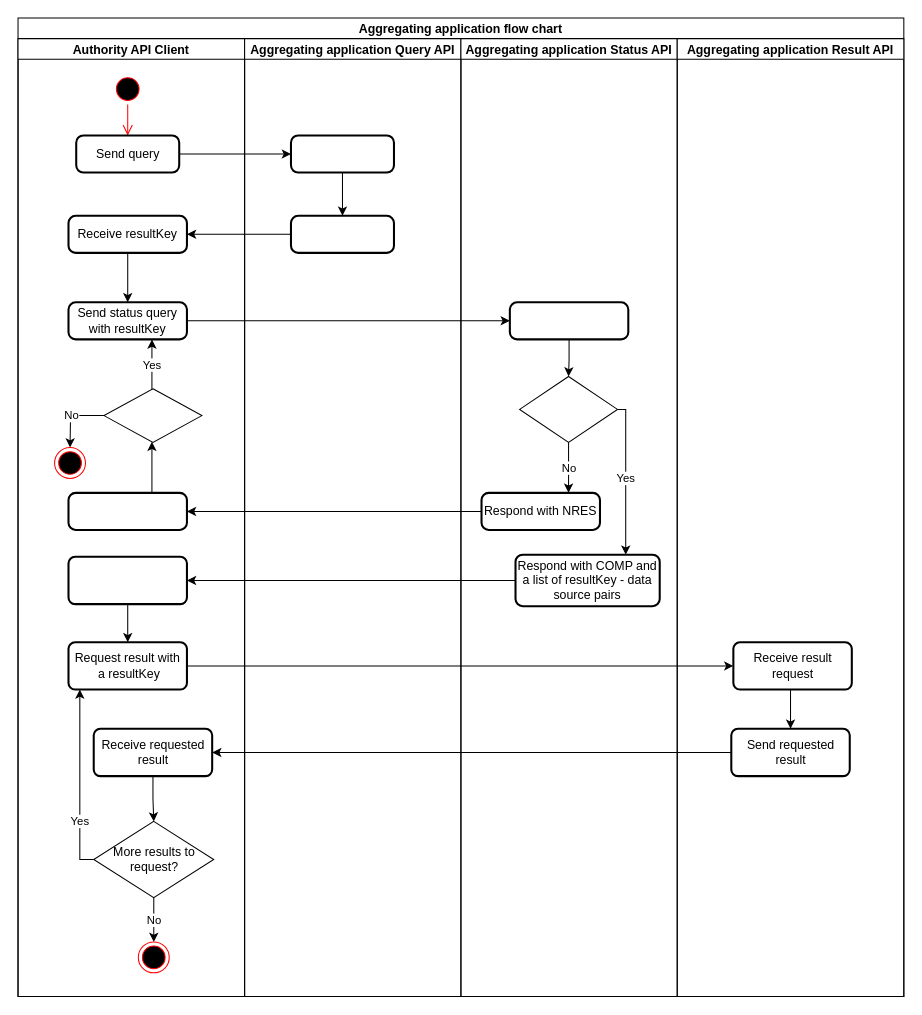
The diagram is 922 pixels wide and 1015 high, and some of its shapes have lost their labels. The shapes that lost their labels are listed below. From the top down, each one's centre as x and y in pixels, then its label:
At (341,153): "Receive query".
At (341,233): "Send resultKey".
At (568,320): "Receive status query".
At (152,415): "Try again?".
At (568,408): "Response ready?".
At (127,510): "Receive NRES response".
At (127,580): "Receive COMP response with resultKeys".
